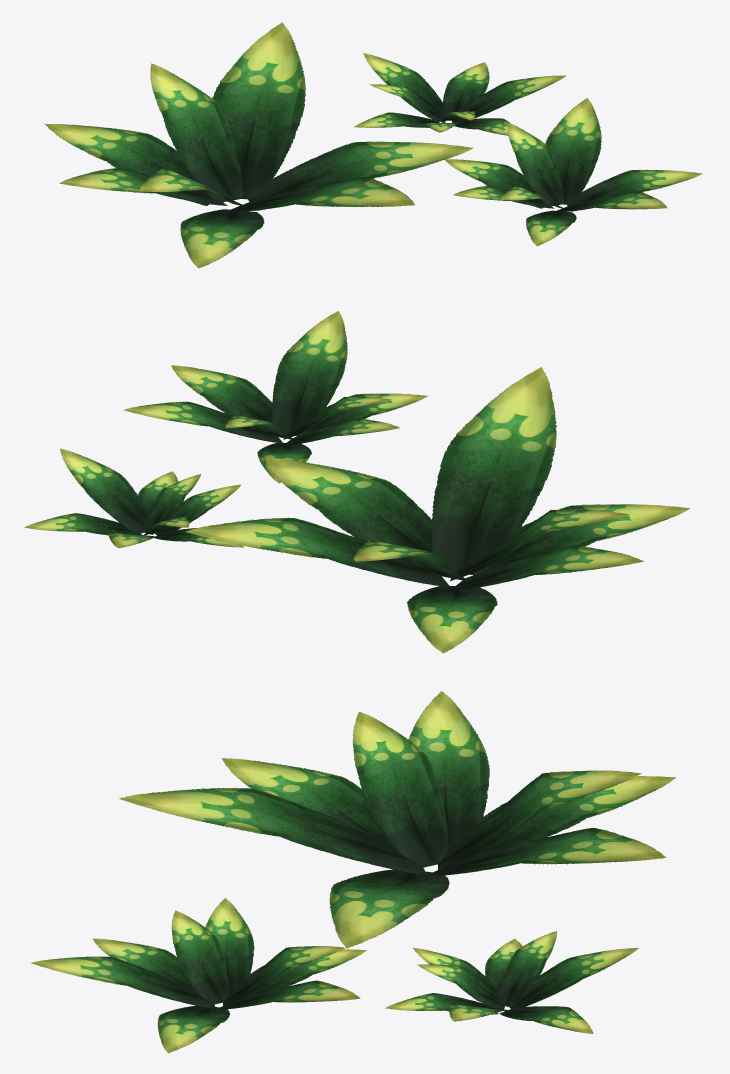
The model's file is Plant 1.fbx.
3 views of the same model, one above another, from view 1: azimuth 30°, elevation 25°; view 2: azimuth 150°, elevation 25°; view 3: azimuth 270°, elevation 25° (orthographic). The views are drawn at different scales.
Parts seen in each view (by area): view 1: Plant; view 2: Plant; view 3: Plant.
Boxes of the visible parts, x1,y1,x2,y2 form: Plant: (44,22,702,268); Plant: (24,311,690,653); Plant: (31,691,675,1053).
Bounding box in the file's own units: 627 × 91.07 × 571.
